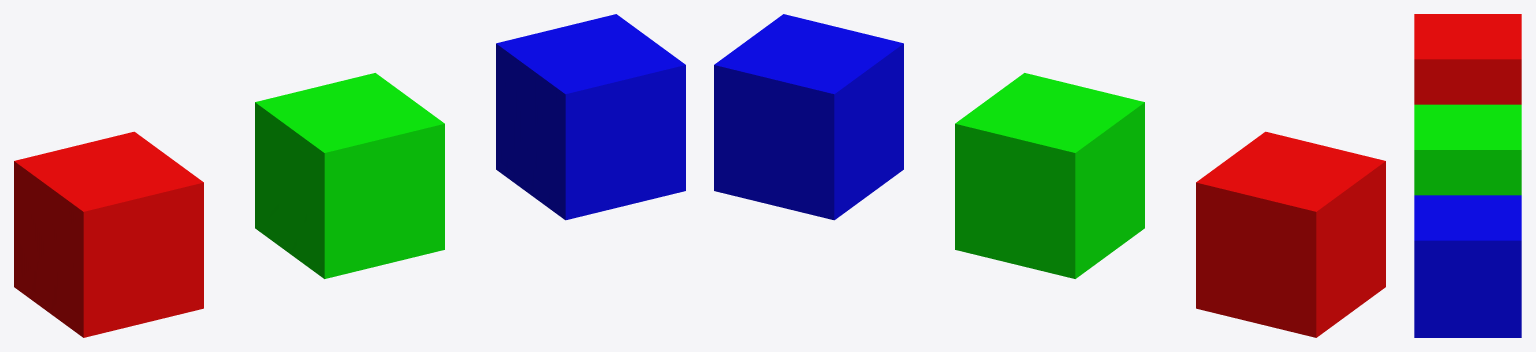
Rendered from MeshGeometryData_out.fbx.
The picture shows the model from 3 angles, left to right: view 1: azimuth 30°, elevation 25°; view 2: azimuth 150°, elevation 25°; view 3: azimuth 270°, elevation 25°; orthographic projection. The views are drawn at different scales.
Parts seen in each view (by area): view 1: cube (×3); view 2: cube (×3); view 3: cube (×3).
Boxes of the visible parts, x1,y1,x2,y2 form: cube (×3): [14, 14, 685, 337]; cube (×3): [714, 14, 1385, 337]; cube (×3): [1414, 14, 1521, 337].
Bounding box in the file's own units: 50 × 10 × 10.
